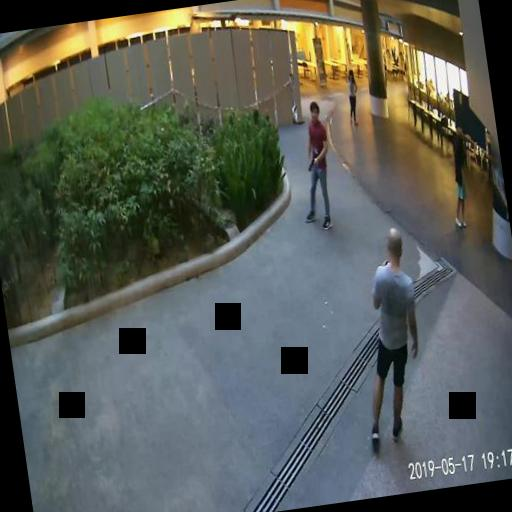Handgun: (306, 156, 316, 170)
